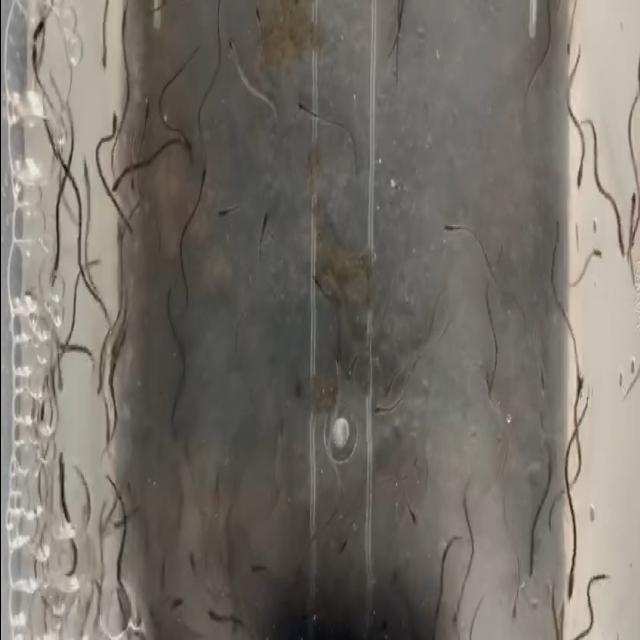active_glass_eel: (256, 202, 274, 252), (22, 275, 42, 320), (32, 380, 49, 432), (563, 558, 580, 608), (186, 549, 203, 593), (448, 590, 466, 630), (380, 366, 400, 402), (80, 158, 96, 203), (248, 558, 271, 588), (94, 36, 113, 72), (572, 365, 584, 420), (53, 444, 69, 484), (137, 93, 154, 129), (224, 38, 244, 68), (110, 164, 130, 194), (612, 220, 626, 262), (571, 147, 585, 189), (506, 582, 520, 624), (196, 158, 210, 200), (178, 124, 194, 160), (441, 214, 460, 244), (292, 99, 314, 124), (112, 214, 127, 250), (94, 354, 105, 402), (586, 237, 604, 266), (49, 251, 60, 298), (550, 206, 561, 252), (626, 181, 636, 229), (309, 266, 324, 298), (404, 500, 418, 534), (217, 204, 234, 232), (372, 396, 390, 421), (125, 171, 139, 203), (335, 532, 351, 560), (538, 368, 548, 410), (251, 9, 267, 35), (484, 371, 494, 412), (107, 110, 118, 142), (563, 34, 574, 64), (206, 608, 218, 630)
